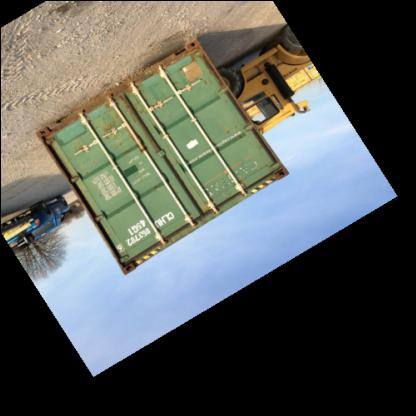Damage: (196, 170, 232, 200), (100, 117, 127, 147), (236, 154, 260, 178), (221, 121, 239, 138), (272, 164, 287, 184), (123, 260, 135, 276)
